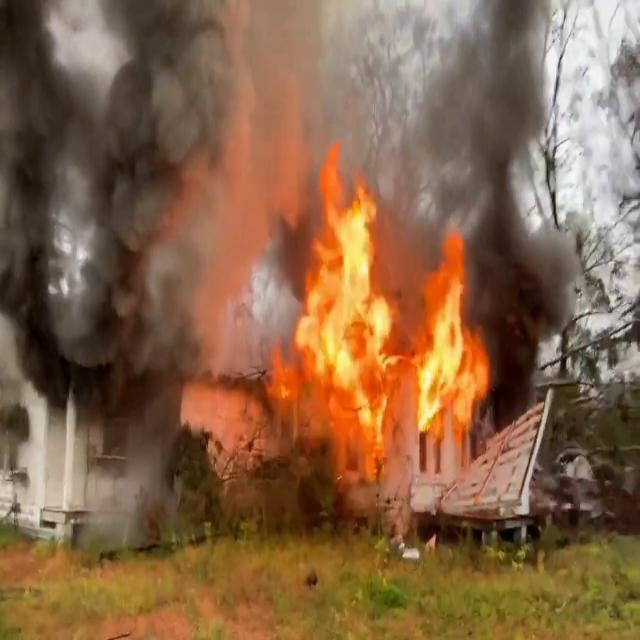Fire: (274, 146, 494, 472), (408, 236, 494, 447)
Smoke: (0, 0, 282, 491), (396, 0, 590, 355)
